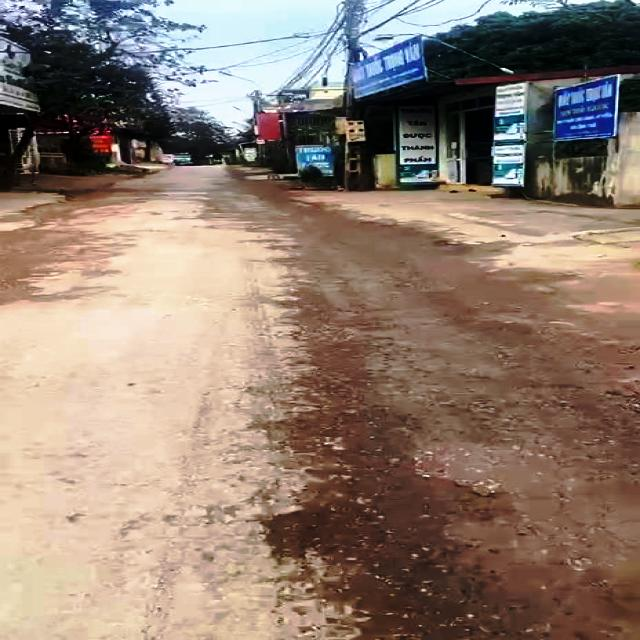pothole: (348, 438, 497, 640), (260, 493, 354, 569)
